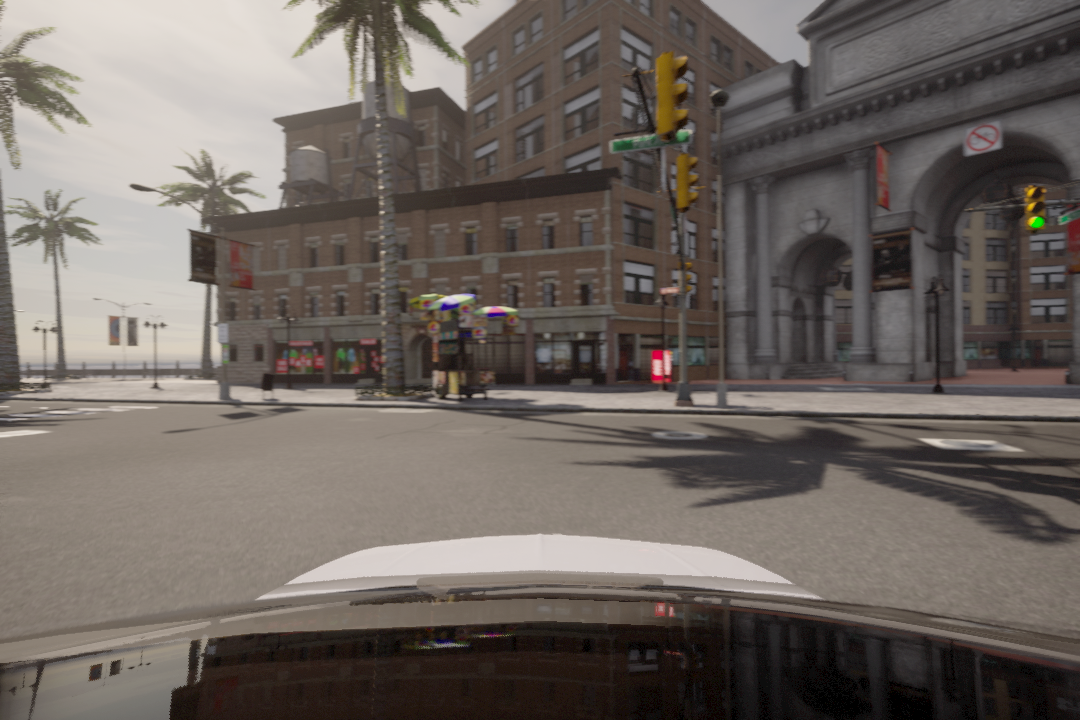TrafficLight: (655, 54, 694, 137), (677, 156, 701, 209), (1024, 181, 1047, 235)
TrafficSign: (965, 125, 1005, 155)
